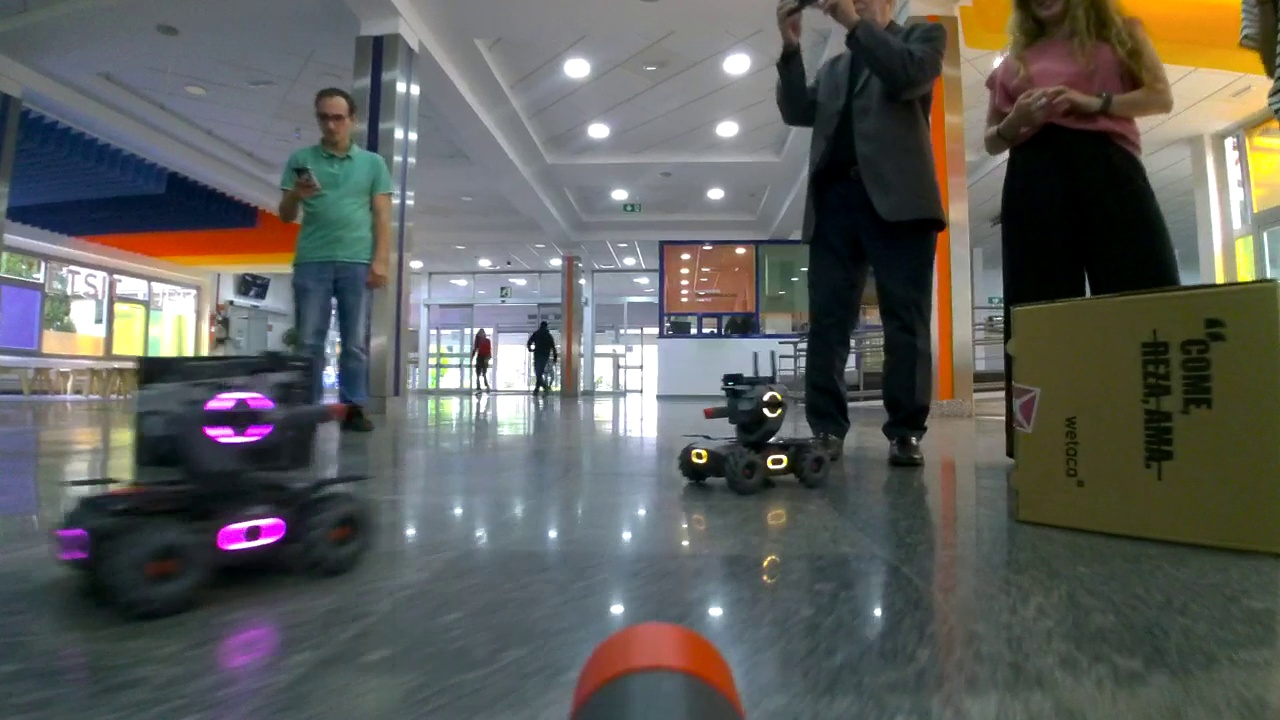robot: (47, 346, 369, 617), (677, 374, 831, 497)
